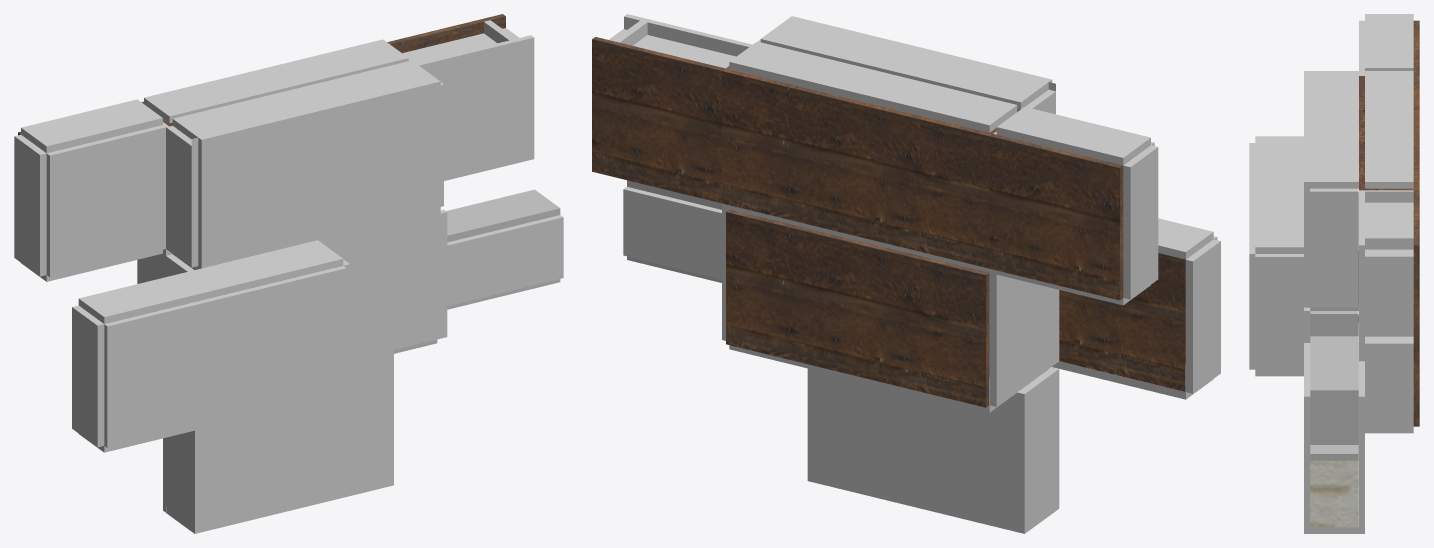
The model's file is Area1.fbx.
3 views of the same model, side by side, from view 1: azimuth 30°, elevation 25°; view 2: azimuth 150°, elevation 25°; view 3: azimuth 270°, elevation 25° (orthographic). The views are drawn at different scales.
Parts seen in each view (by area): view 1: Living Room Ceiling, Attic Ceiling, Bedroom Ceiling, Kitchen Ceiling, Foyer Ceiling, Jackson's Room Ceiling, Bathroom Ceiling, Attic Right Wall, Entry Hallway Ceiling, Lower Hallway Right Wall, Living Room Back Wall, Living Room Left Wall (+9 smaller); view 2: Lower Hallway Beams, Office Floor, Bedroom Floor, Jackson's Room Floor, Kitchen Floor, Attic Floor, Lower Hallway Right Wall, Bathroom Floor, Living Room Back Wall, Entry Hallway Floor, Bedroom Back Wall, Attic Front Wall (+11 smaller); view 3: Living Room Right Wall, Attic Back Wall, Living Room Back Wall, Lower Hallway Right Wall, Attic Right Wall, Jackson's Room Back Wall, Office Left Wall, Bathroom Back Wall, Entry Hallway Left Wall, Bedroom Right Wall, Jackson's Room Left Wall, Entry Hallway Back Wall.005 (+20 smaller).
Boxes of the visible parts, <box> form: Living Room Ceiling: <box>198,79,440,269</box>; Attic Ceiling: <box>104,266,346,447</box>; Bedroom Ceiling: <box>46,124,168,277</box>; Kitchen Ceiling: <box>191,400,320,533</box>; Foyer Ceiling: <box>322,209,447,360</box>; Jackson's Room Ceiling: <box>416,35,534,180</box>; Bathroom Ceiling: <box>321,350,393,502</box>; Attic Right Wall: <box>78,240,343,323</box>; Entry Hallway Ceiling: <box>447,215,563,306</box>; Lower Hallway Right Wall: <box>144,39,408,123</box>; Living Room Back Wall: <box>172,60,436,139</box>; Living Room Left Wall: <box>166,125,198,267</box>; Lower Hallway Beams: <box>722,66,1019,268</box>; Office Floor: <box>726,209,989,407</box>; Bedroom Floor: <box>989,134,1123,300</box>; Jackson's Room Floor: <box>592,37,725,203</box>; Kitchen Floor: <box>887,388,1027,533</box>; Attic Floor: <box>1059,253,1185,391</box>; Lower Hallway Right Wall: <box>729,41,1017,132</box>; Bathroom Floor: <box>807,368,887,500</box>; Living Room Back Wall: <box>760,18,1048,109</box>; Entry Hallway Floor: <box>623,187,721,279</box>; Bedroom Back Wall: <box>1123,145,1158,299</box>; Attic Front Wall: <box>1186,239,1220,393</box>; Living Room Right Wall: <box>1310,188,1358,307</box>; Attic Back Wall: <box>1255,254,1303,372</box>; Living Room Back Wall: <box>1310,71,1358,188</box>; Lower Hallway Right Wall: <box>1365,71,1413,188</box>; Attic Right Wall: <box>1255,136,1303,253</box>; Jackson's Room Back Wall: <box>1365,235,1413,354</box>; Office Left Wall: <box>1365,354,1413,429</box>; Bathroom Back Wall: <box>1310,455,1358,527</box>; Entry Hallway Left Wall: <box>1310,336,1358,396</box>; Bedroom Right Wall: <box>1365,14,1413,70</box>; Jackson's Room Left Wall: <box>1365,202,1413,263</box>; Entry Hallway Back Wall.005: <box>1310,397,1358,444</box>.
Bounding box in the file's own units: 33.83 × 25.83 × 10.67.
